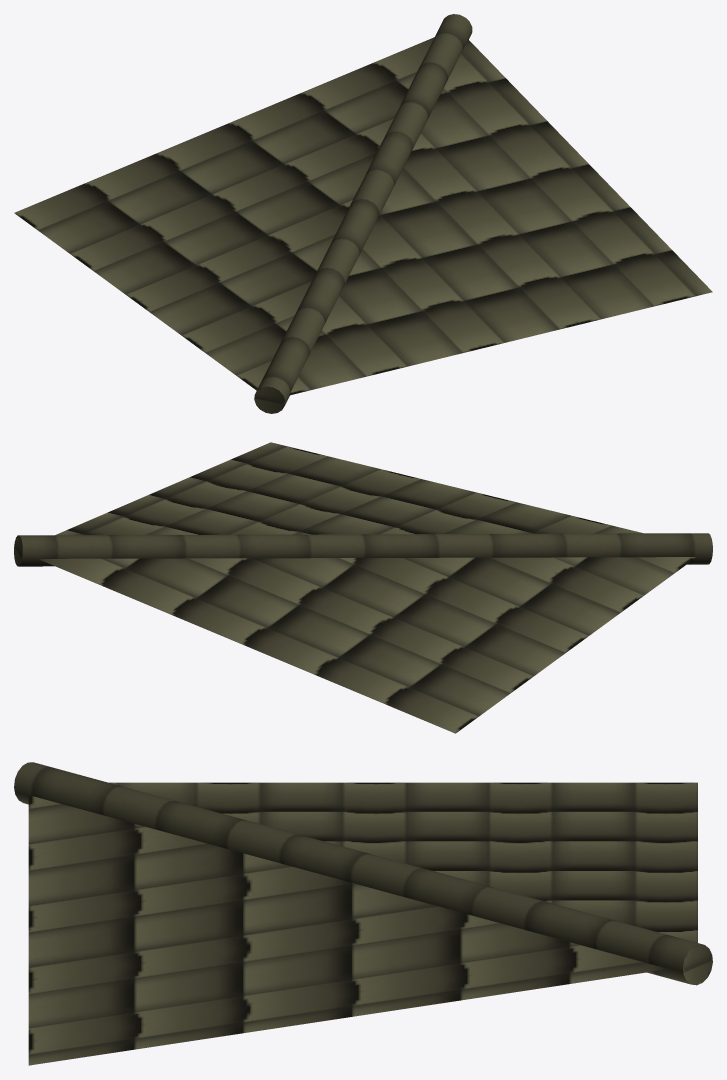
The model's file is NNJ0510061.fbx.
3 views of the same model, one above another, from view 1: azimuth 30°, elevation 25°; view 2: azimuth 150°, elevation 25°; view 3: azimuth 270°, elevation 25° (orthographic). The views are drawn at different scales.
Visible parts, largest first — view 1: smNNJ0510061; view 2: smNNJ0510061; view 3: smNNJ0510061.
Boxes of the visible parts, bbox=[...] form: smNNJ0510061: bbox=[14, 14, 712, 413]; smNNJ0510061: bbox=[14, 442, 712, 733]; smNNJ0510061: bbox=[14, 762, 712, 1065].
Size of the model in its own units: 289 by 63.03 by 289.
1 material, 1 textured.
